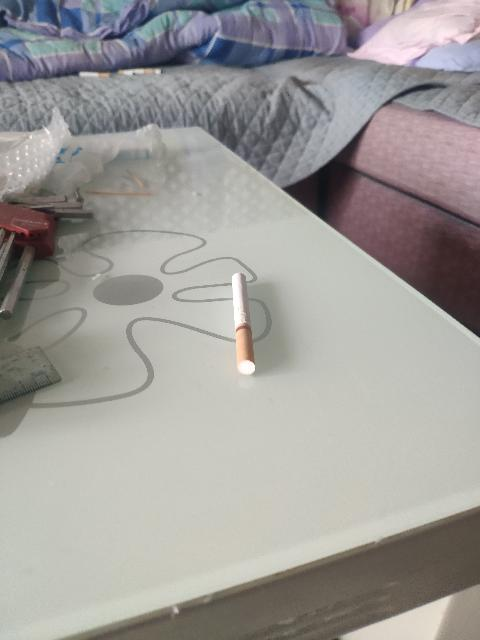Cigarette: (231, 274, 256, 374)
